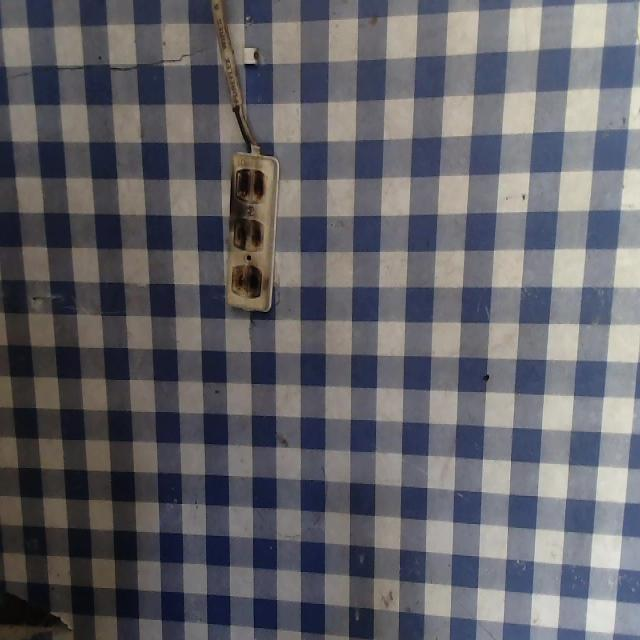-: (224, 259, 275, 305), (227, 208, 267, 256), (229, 163, 271, 208)
